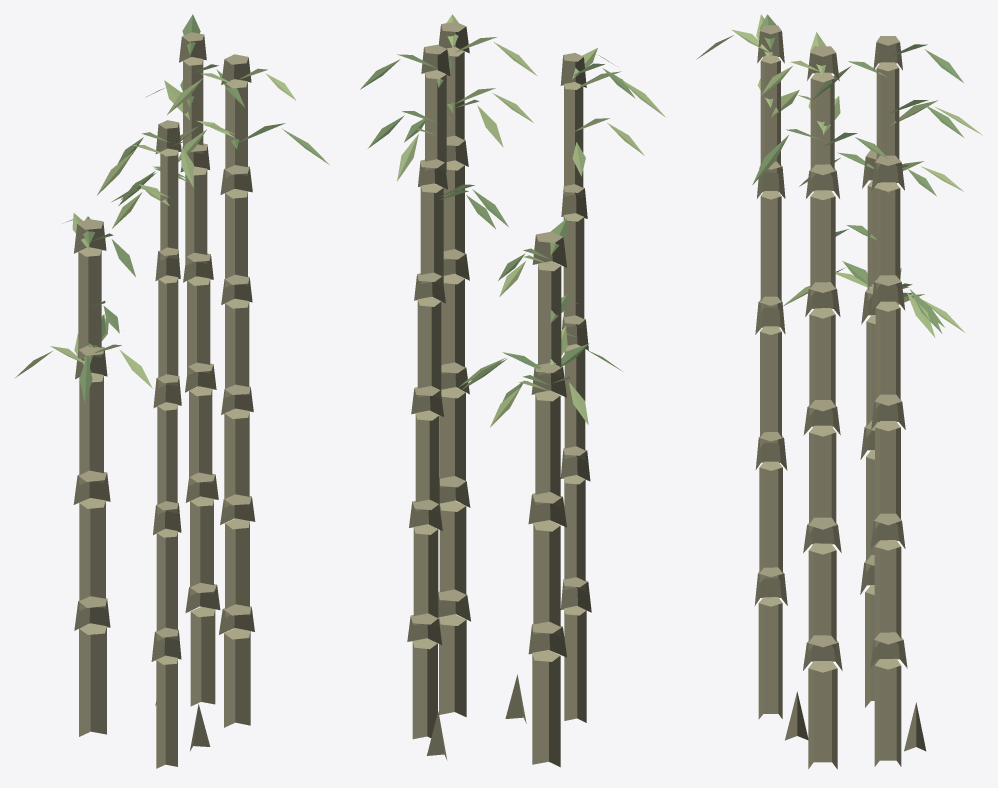
File: hua.zhu@subadult__bloom.glb
The picture shows the model from 3 angles, left to right: view 1: azimuth 30°, elevation 25°; view 2: azimuth 150°, elevation 25°; view 3: azimuth 270°, elevation 25°; orthographic projection. The views are drawn at different scales.
Parts seen in each view (by area): view 1: hua.zhu@subadult__bloom; view 2: hua.zhu@subadult__bloom; view 3: hua.zhu@subadult__bloom.
Part boxes in pixels (x1,y1,x2,y2): hua.zhu@subadult__bloom: [14, 14, 329, 768]; hua.zhu@subadult__bloom: [360, 14, 665, 767]; hua.zhu@subadult__bloom: [696, 14, 982, 769].
Size of the model in its own units: 1.11 by 3.02 by 1.09.
